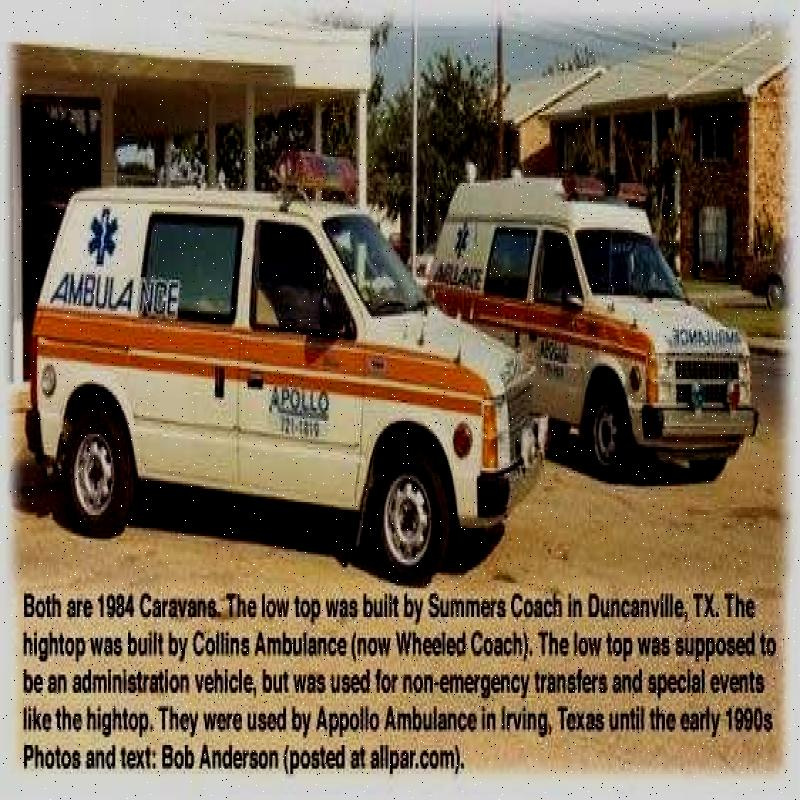AmbulanceSiren: (274, 143, 374, 215), (558, 154, 664, 210)
